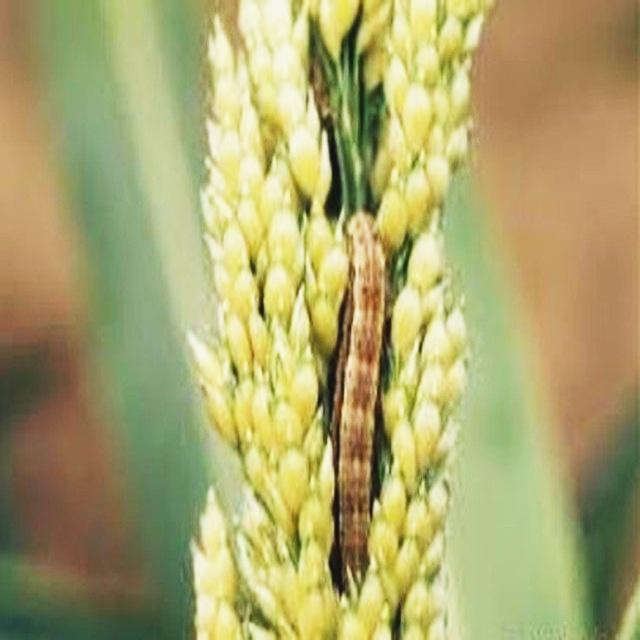gusano_cogollero: (324, 205, 393, 598)
